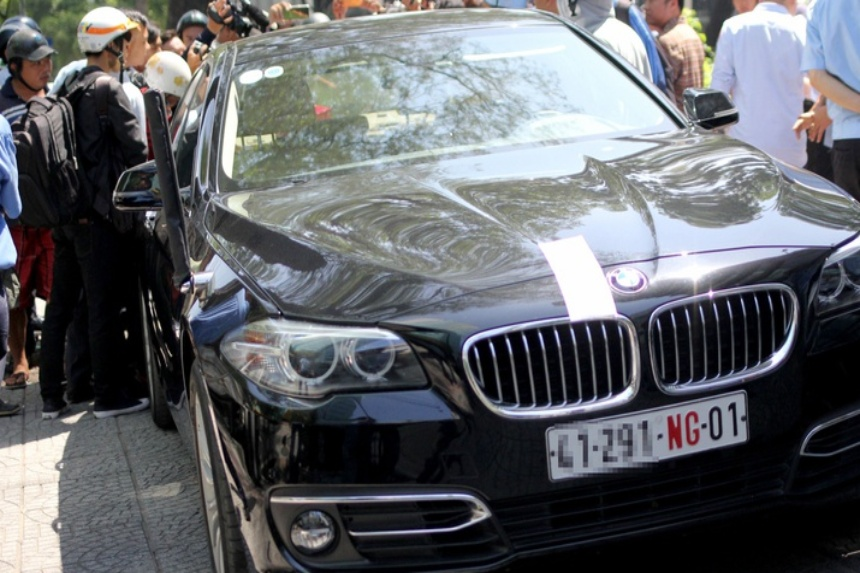plate: (545, 392, 754, 486)
